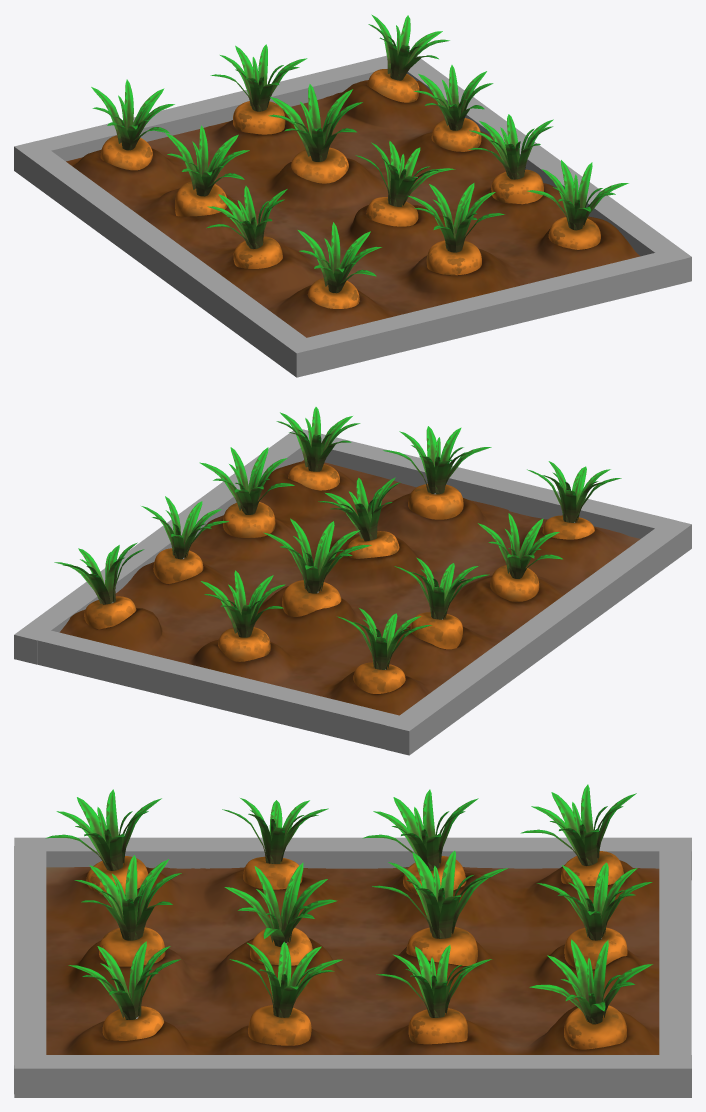
The model's file is carrot.fbx.
3 renders of one model, top to bottom at view 1: azimuth 30°, elevation 25°; view 2: azimuth 150°, elevation 25°; view 3: azimuth 270°, elevation 25°, orthographic. The views are drawn at different scales.
Visible parts, largest first — view 1: polySurface235, pCube557, pCube560, pCube558, pCube559, polySurface475, polySurface441, polySurface146, polySurface36, polySurface268, polySurface586, polySurface322 (+5 smaller); view 2: polySurface235, pCube560, pCube558, pCube557, pCube559, polySurface475, polySurface441, polySurface146, polySurface268, polySurface36, polySurface284, polySurface141 (+5 smaller); view 3: polySurface235, pCube559, pCube560, pCube557, pCube558, polySurface146, polySurface591, polySurface441, polySurface284, polySurface475, polySurface322, polySurface36 (+11 smaller).
Part boxes in pixels (x1=…): polySurface235: x1=66, y1=80, x2=640, y2=337; pCube557: x1=298, y1=248, x2=685, y2=373; pCube560: x1=14, y1=141, x2=311, y2=377; pCube558: x1=29, y1=55, x2=387, y2=161; pCube559: x1=386, y1=50, x2=691, y2=282; polySurface475: x1=426, y1=240, x2=481, y2=275; polySurface441: x1=291, y1=147, x2=348, y2=183; polySurface146: x1=491, y1=169, x2=543, y2=204; polySurface36: x1=233, y1=101, x2=285, y2=134; polySurface268: x1=175, y1=181, x2=226, y2=216; polySurface586: x1=100, y1=135, x2=152, y2=170; polySurface322: x1=548, y1=217, x2=600, y2=249; polySurface235: x1=59, y1=460, x2=640, y2=715; pCube560: x1=386, y1=521, x2=691, y2=755; pCube558: x1=33, y1=626, x2=407, y2=749; pCube557: x1=289, y1=429, x2=676, y2=538; pCube559: x1=14, y1=429, x2=306, y2=664; polySurface475: x1=408, y1=483, x2=463, y2=519; polySurface441: x1=282, y1=580, x2=341, y2=616; polySurface146: x1=223, y1=502, x2=275, y2=537; polySurface268: x1=410, y1=612, x2=462, y2=649; polySurface36: x1=218, y1=627, x2=270, y2=661; polySurface284: x1=153, y1=548, x2=203, y2=583; polySurface141: x1=490, y1=565, x2=539, y2=601; polySurface235: x1=46, y1=860, x2=659, y2=1054; pCube559: x1=14, y1=1055, x2=691, y2=1097; pCube560: x1=14, y1=837, x2=691, y2=879; pCube557: x1=14, y1=846, x2=46, y2=1093; pCube558: x1=659, y1=846, x2=691, y2=1065; polySurface146: x1=248, y1=1005, x2=311, y2=1045; polySurface591: x1=564, y1=1005, x2=626, y2=1049; polySurface441: x1=406, y1=927, x2=477, y2=965; polySurface284: x1=408, y1=1008, x2=467, y2=1044; polySurface475: x1=99, y1=927, x2=165, y2=966; polySurface322: x1=102, y1=1006, x2=163, y2=1040; polySurface36: x1=564, y1=927, x2=627, y2=969.
Bounding box in the file's own units: 5.24 × 1.59 × 6.49.
